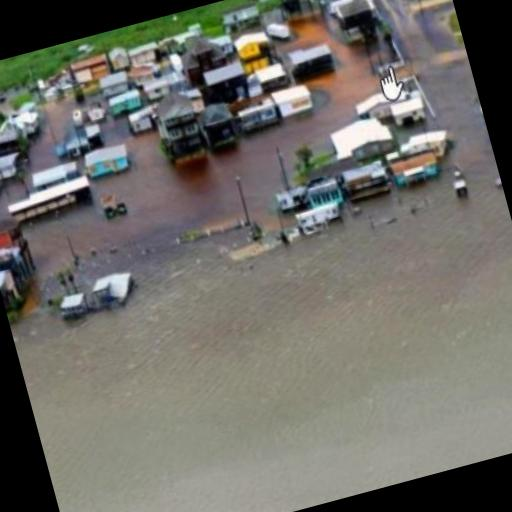flood: (10, 20, 512, 512)
house: (0, 169, 90, 229), (268, 174, 350, 236), (324, 109, 396, 170), (154, 96, 209, 170), (0, 216, 40, 302), (78, 138, 133, 184), (340, 158, 390, 201), (395, 126, 451, 164), (179, 34, 227, 78), (389, 148, 440, 188), (201, 60, 250, 100), (286, 40, 334, 80), (201, 100, 239, 150), (270, 80, 315, 118), (236, 96, 278, 132), (68, 52, 110, 86), (124, 102, 160, 139), (218, 1, 260, 32), (140, 70, 180, 102), (390, 94, 428, 127), (233, 28, 270, 60), (253, 62, 288, 92), (106, 88, 142, 116), (96, 68, 130, 96), (126, 40, 162, 66), (55, 292, 87, 320), (0, 118, 23, 154), (0, 151, 21, 187)
